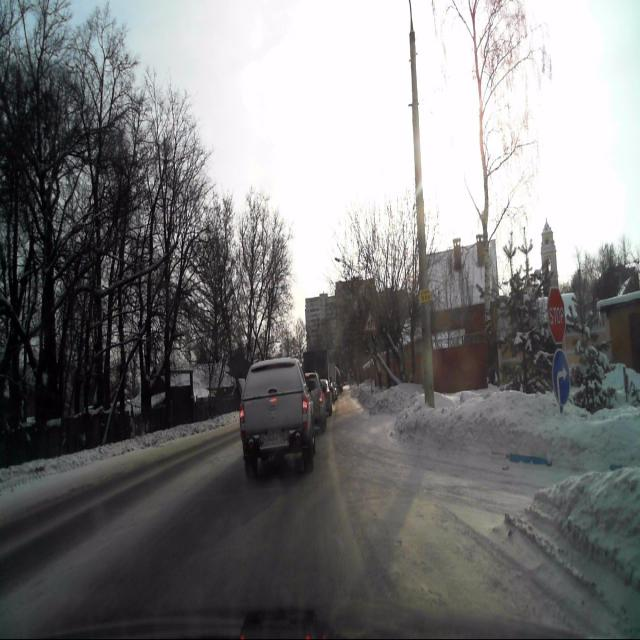object: (546, 285, 568, 342)
road sign: (364, 312, 376, 333)
